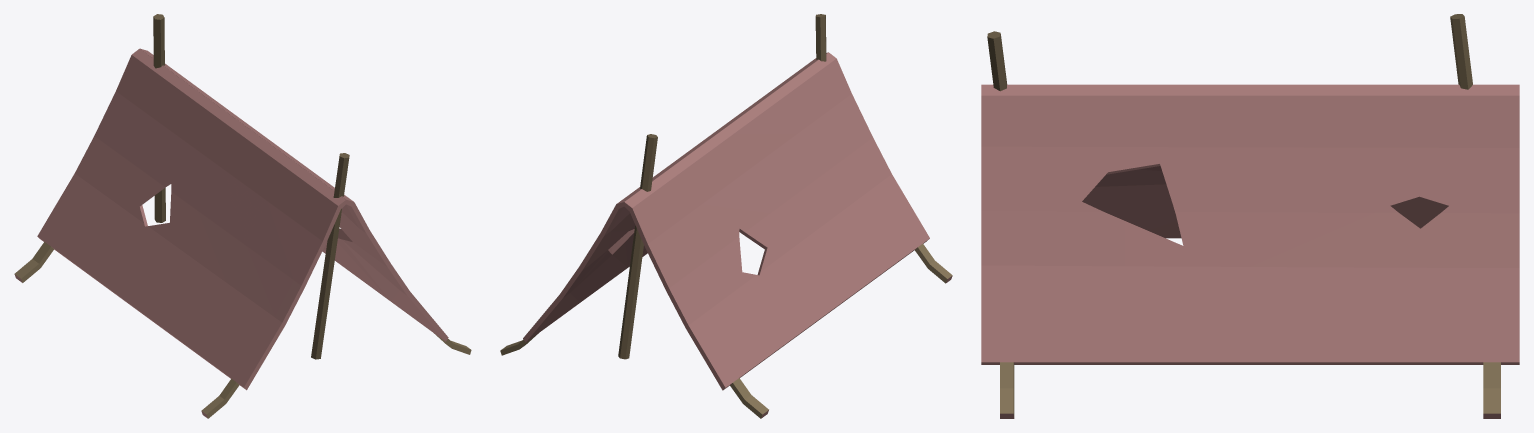
The model's file is DesertTent.fbx.
3 views of the same model, side by side, from view 1: azimuth 30°, elevation 25°; view 2: azimuth 150°, elevation 25°; view 3: azimuth 270°, elevation 25° (orthographic). The views are drawn at different scales.
Visible parts, largest first — view 1: Cylinder_2_2, Cylinder, Cylinder_2; view 2: Cylinder_2_2, Cylinder_2, Cylinder; view 3: Cylinder_2_2, Cylinder_2, Cylinder.
Boxes of the visible parts, box(x1,y1,x2,y2) form: Cylinder_2_2: box(14, 48, 471, 418); Cylinder: box(311, 153, 349, 359); Cylinder_2: box(153, 14, 165, 222); Cylinder_2_2: box(500, 52, 952, 418); Cylinder_2: box(618, 134, 657, 359); Cylinder: box(815, 14, 826, 61); Cylinder_2_2: box(981, 84, 1519, 418); Cylinder_2: box(1450, 14, 1472, 89); Cylinder: box(987, 31, 1007, 91).
Bounding box in the file's own units: 266 × 233 × 359.
